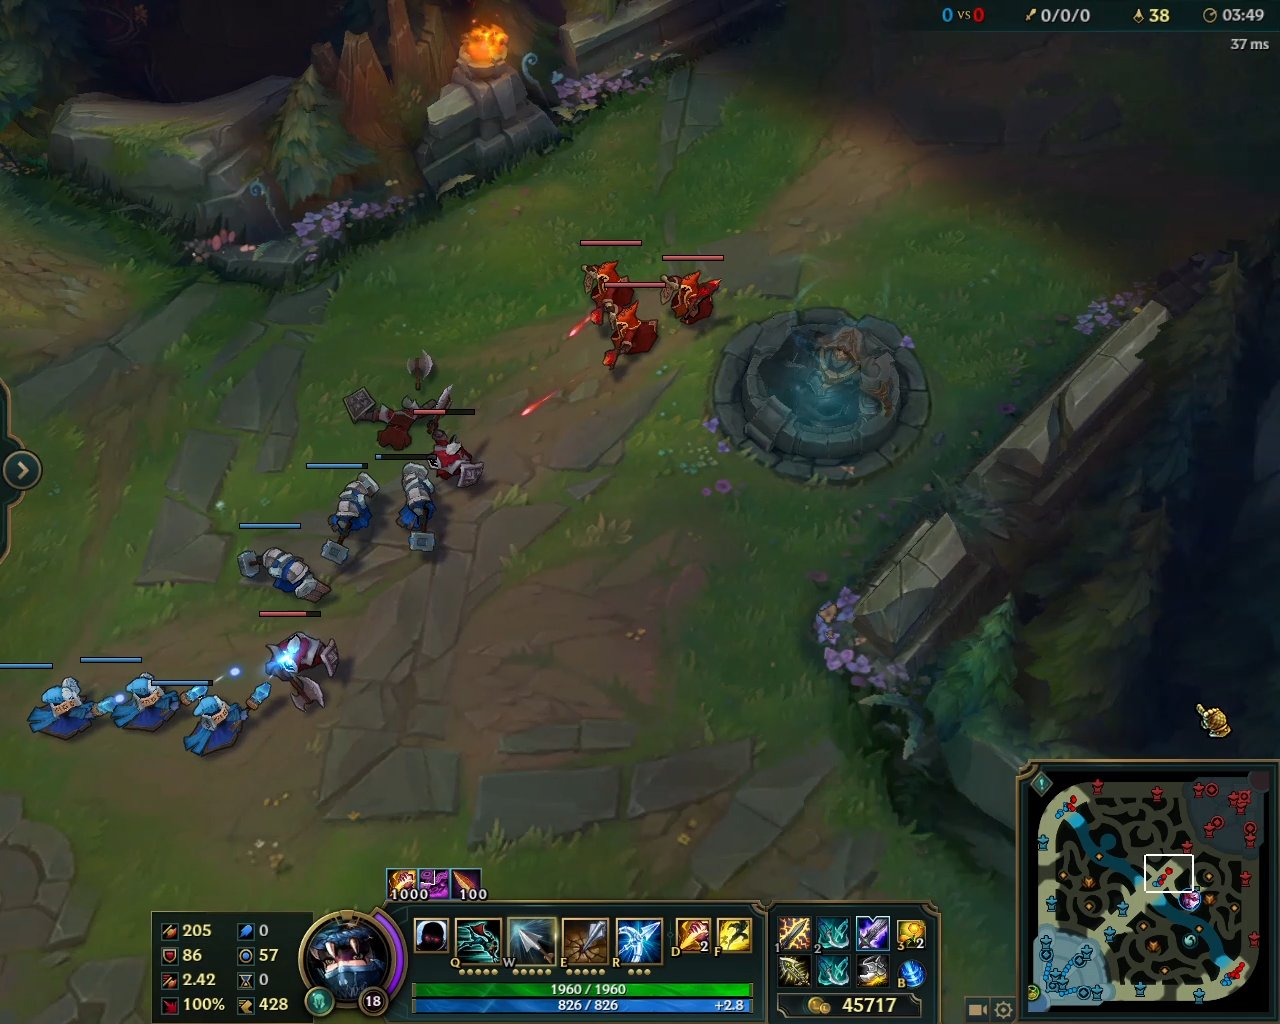EnemyMinion: (410, 385, 489, 491), (257, 608, 338, 712), (596, 279, 666, 373), (578, 238, 646, 327), (654, 253, 727, 327)
